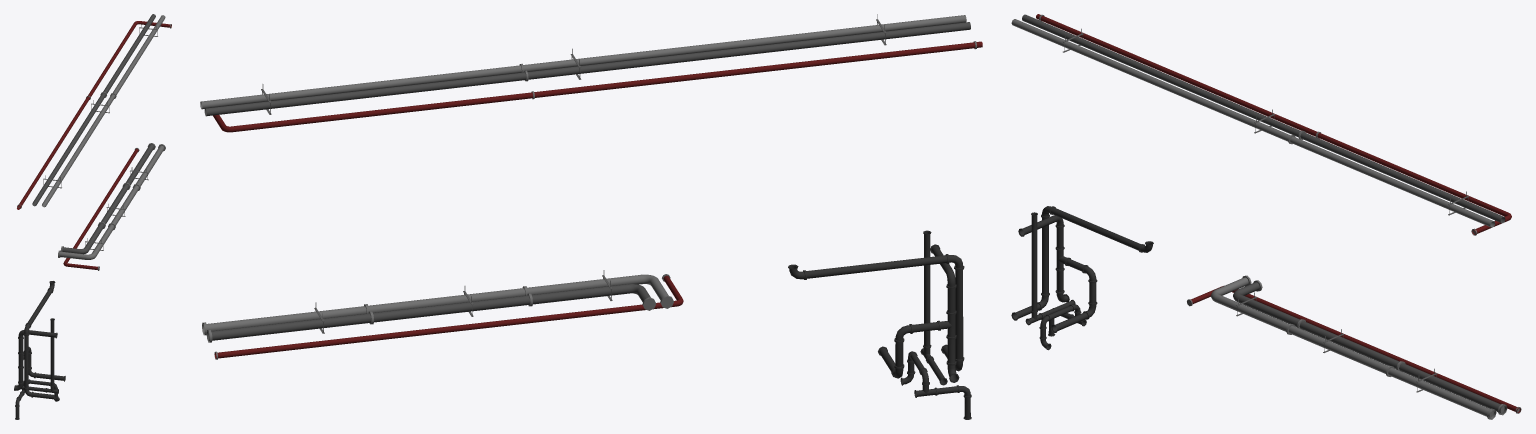
The model's file is SM_H_Building_Tide_Jail_D_02_Pipeline_03_ATLAS.fbx.
The picture shows the model from 3 angles, left to right: view 1: azimuth 30°, elevation 25°; view 2: azimuth 150°, elevation 25°; view 3: azimuth 270°, elevation 25°; orthographic projection. The views are drawn at different scales.
Visible parts, largest first — view 1: SM_H_Building_Tide_Jail_D_02_Pipeline_03_ATLAS; view 2: SM_H_Building_Tide_Jail_D_02_Pipeline_03_ATLAS; view 3: SM_H_Building_Tide_Jail_D_02_Pipeline_03_ATLAS.
Boxes of the visible parts, x1=… form: SM_H_Building_Tide_Jail_D_02_Pipeline_03_ATLAS: x1=14, y1=14, x2=171, y2=419; SM_H_Building_Tide_Jail_D_02_Pipeline_03_ATLAS: x1=200, y1=14, x2=982, y2=419; SM_H_Building_Tide_Jail_D_02_Pipeline_03_ATLAS: x1=1011, y1=14, x2=1521, y2=419.
Size of the model in its own units: 1616 by 1598 by 1154.
